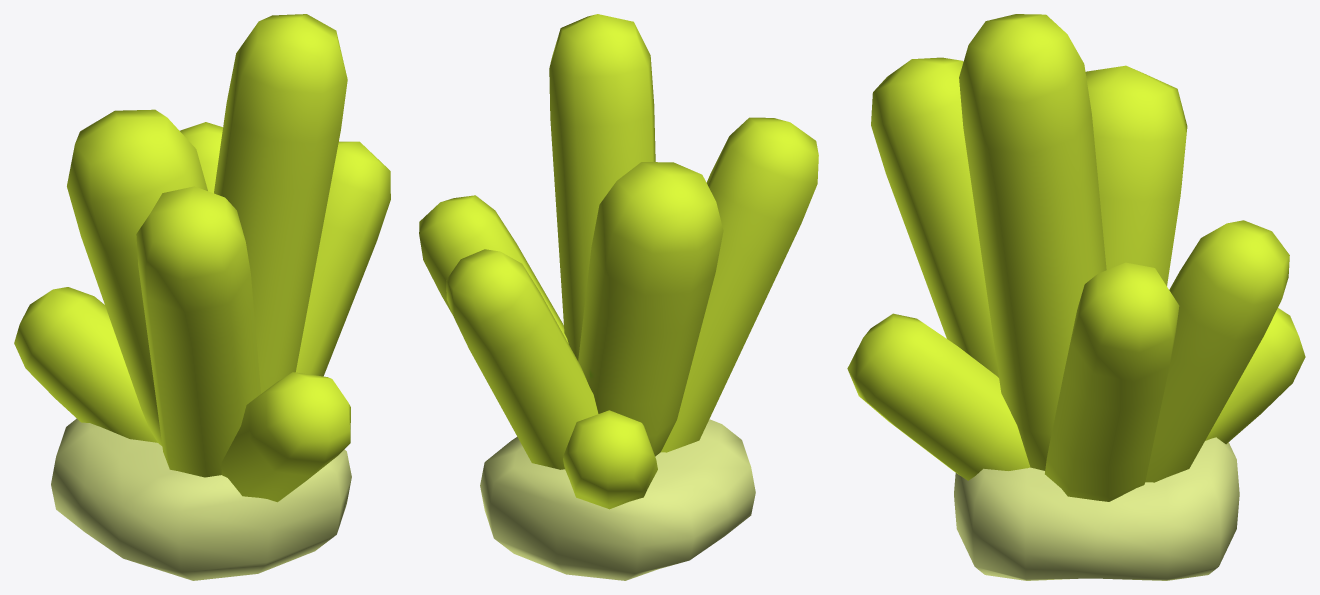
The model's file is RivernemYELLOW.fbx.
3 views of the same model, side by side, from view 1: azimuth 30°, elevation 25°; view 2: azimuth 150°, elevation 25°; view 3: azimuth 270°, elevation 25° (orthographic). The views are drawn at different scales.
Parts seen in each view (by area): view 1: Cube.023; view 2: Cube.023; view 3: Cube.023.
Boxes of the visible parts, x1=… form: Cube.023: x1=14, y1=14, x2=390, y2=580; Cube.023: x1=419, y1=14, x2=818, y2=580; Cube.023: x1=847, y1=14, x2=1305, y2=580.
Bounding box in the file's own units: 22.94 × 34.72 × 25.79.
